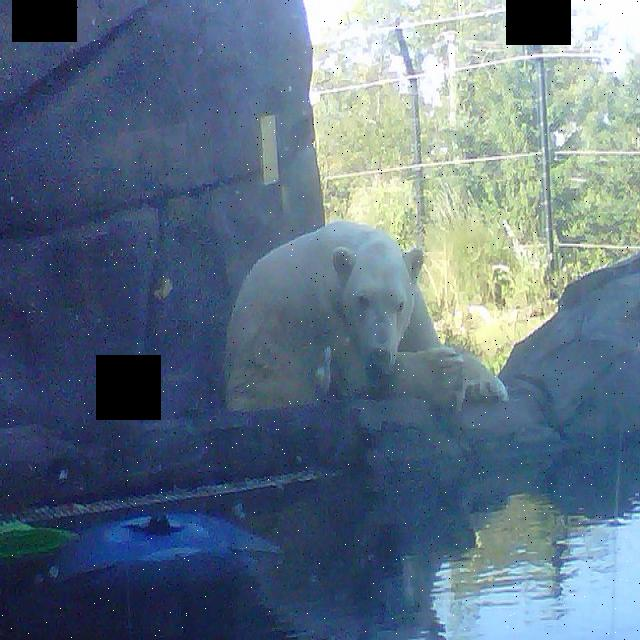Bear: (213, 213, 512, 417)
